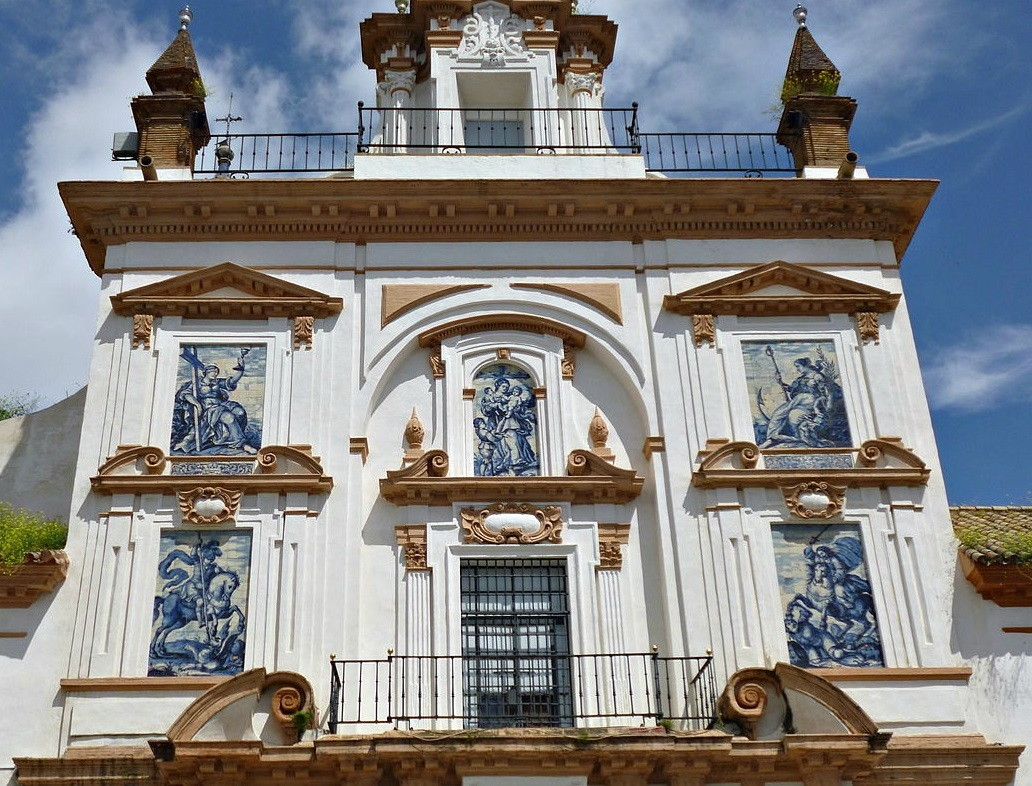fronton: (107, 256, 334, 322), (664, 257, 897, 319)
fronton-partido: (148, 655, 883, 775), (376, 446, 650, 503), (87, 441, 338, 497), (689, 436, 932, 492)
vano-adintelado: (425, 518, 610, 734)
